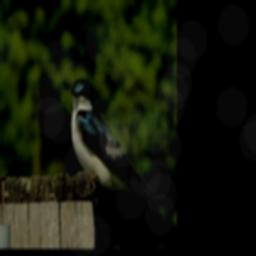Swallow: (69, 77, 166, 220)
